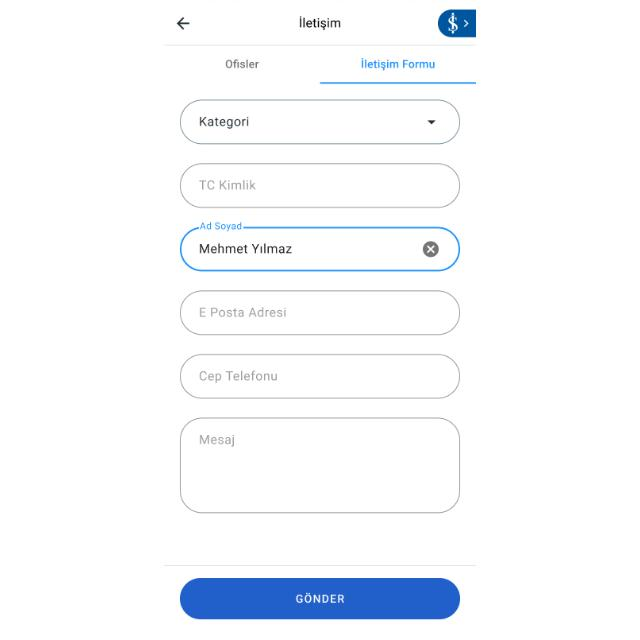QLabel: (352, 56, 442, 74), (296, 13, 342, 32), (220, 58, 266, 72), (296, 592, 348, 604)
VAppBar: (164, 0, 476, 48)
VBtn: (180, 577, 462, 621)
VCombobox: (179, 98, 461, 146)
VFooter: (164, 566, 476, 640)
VIcon: (177, 16, 190, 29)
VImg: (438, 9, 476, 37)
VTabs: (164, 49, 476, 531)
VTextField: (180, 223, 460, 273), (180, 162, 460, 210), (180, 353, 462, 399), (180, 290, 462, 336)
VTextarea: (178, 417, 462, 515)
